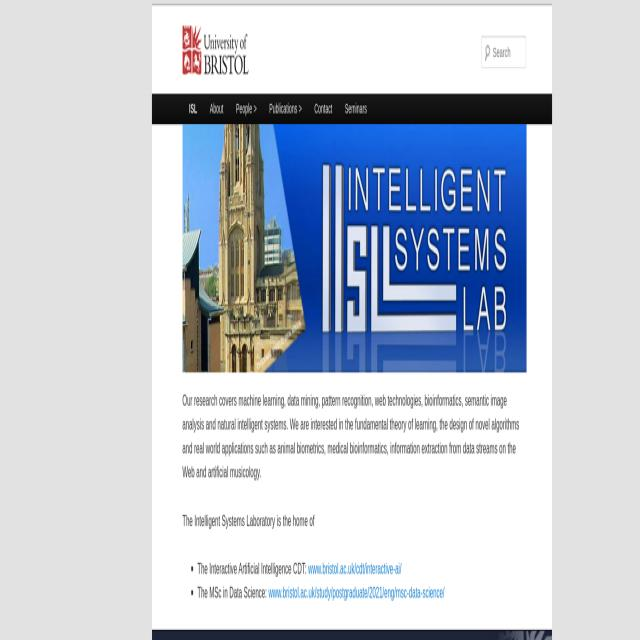button: (182, 3, 249, 91), (263, 90, 308, 121), (339, 90, 373, 121), (230, 90, 263, 121), (308, 90, 338, 121), (203, 89, 230, 120), (182, 89, 204, 120)
field: (480, 36, 526, 70)
